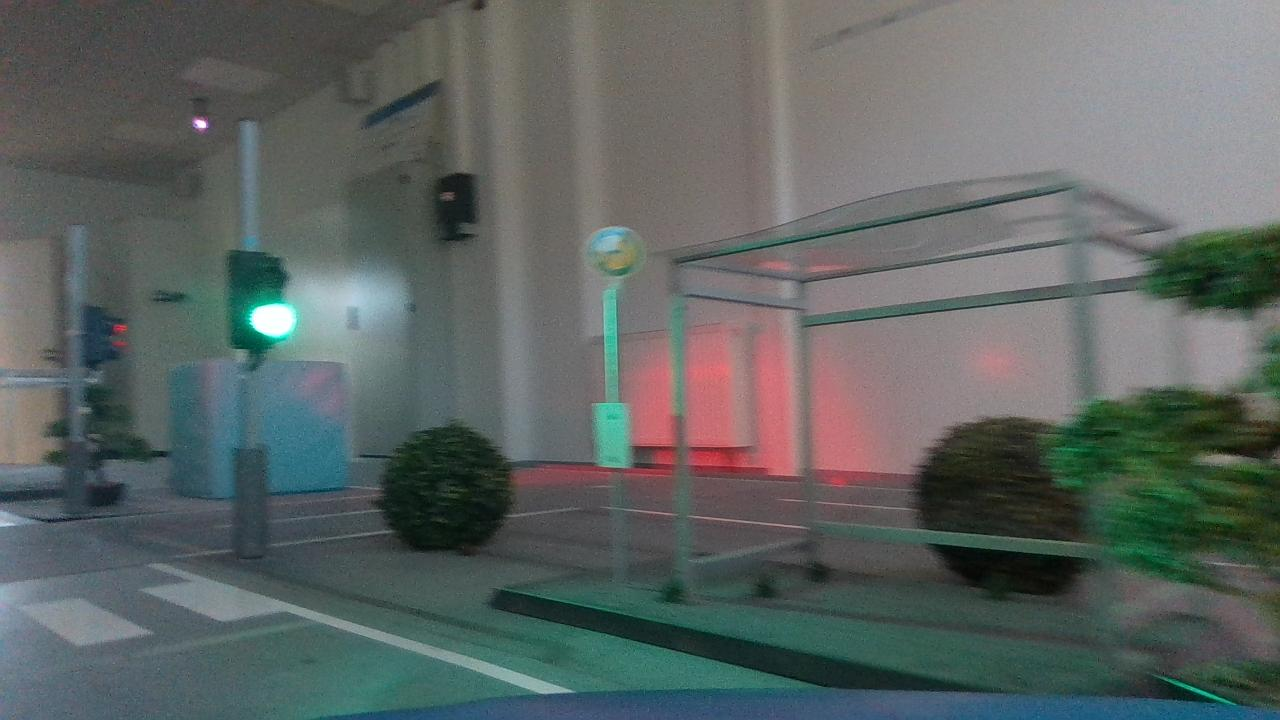traffic_light_green: (212, 238, 305, 365)
